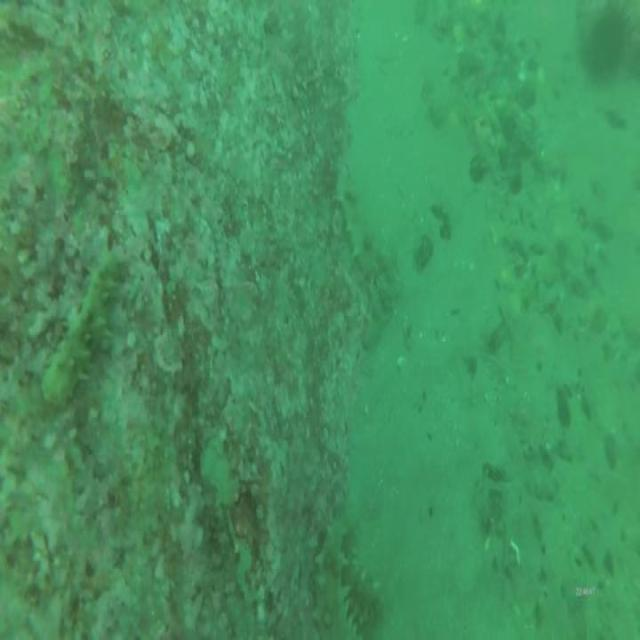echinus: (578, 0, 630, 88)
holothurian: (38, 242, 127, 414), (332, 160, 396, 300), (306, 521, 362, 640)
